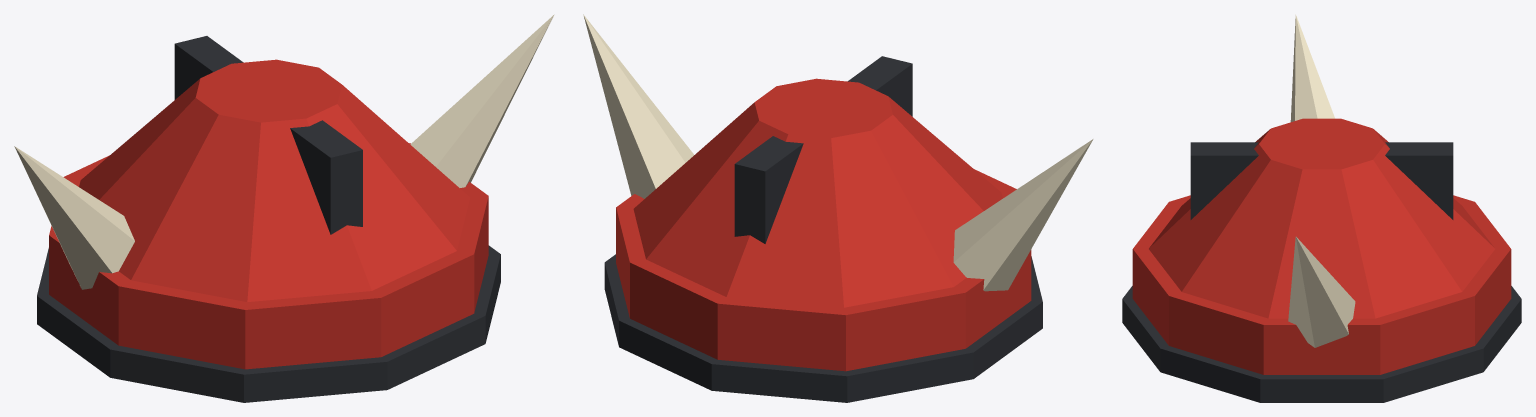
Rendered from Helmet.obj.
3 renders of one model, left to right at view 1: azimuth 30°, elevation 25°; view 2: azimuth 150°, elevation 25°; view 3: azimuth 270°, elevation 25°, orthographic. The views are drawn at different scales.
Parts seen in each view (by area): view 1: Helmet; view 2: Helmet; view 3: Helmet.
Boxes of the visible parts, x1,y1,x2,y2 form: Helmet: (14, 14, 554, 402); Helmet: (583, 14, 1093, 402); Helmet: (1122, 14, 1521, 402).
Bounding box in the file's own units: 1 × 0.42 × 0.76.
